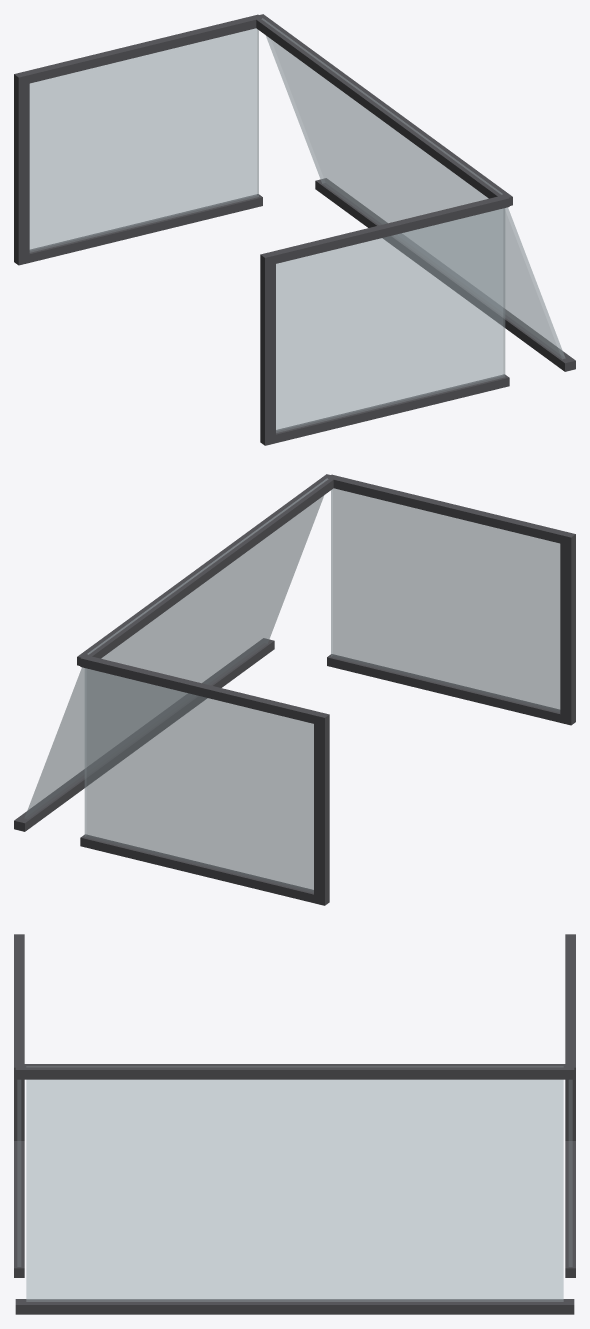
File: dm_cabglass.glb
The picture shows the model from 3 angles, top to bottom: view 1: azimuth 30°, elevation 25°; view 2: azimuth 150°, elevation 25°; view 3: azimuth 270°, elevation 25°; orthographic projection. The views are drawn at different scales.
Visible parts, largest first — view 1: dm_cabglass; view 2: dm_cabglass; view 3: dm_cabglass.
Part boxes in pixels (x1,y1,x2,y2): dm_cabglass: (14, 14, 575, 445); dm_cabglass: (14, 474, 575, 905); dm_cabglass: (14, 934, 575, 1314).
Bounding box in the file's own units: 1.14 × 0.6581 × 1.58.
